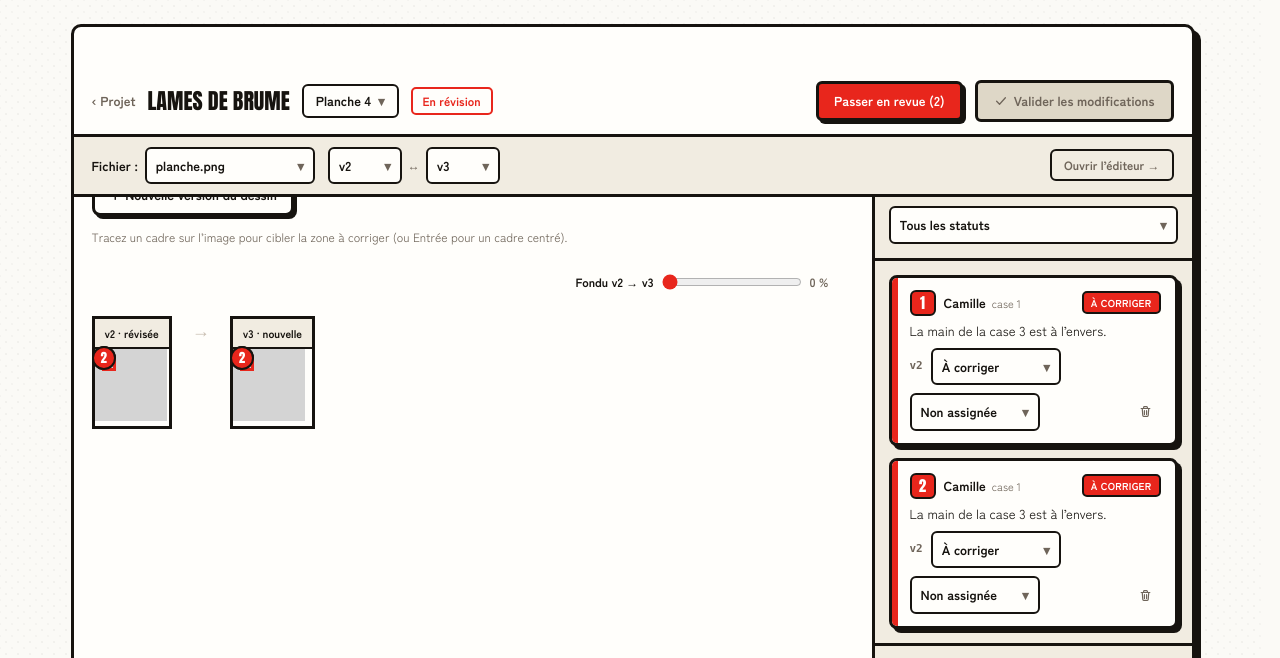
ReviewClient — CS-25 new-version triage › Escape leaves the mode keeping the decisions already written, and returns focus to the entry button
The width and height of the screenshot is (1280, 658).
Click the button "Passer en revue (2)". click: (889, 101)
box: [816,81,963,121]
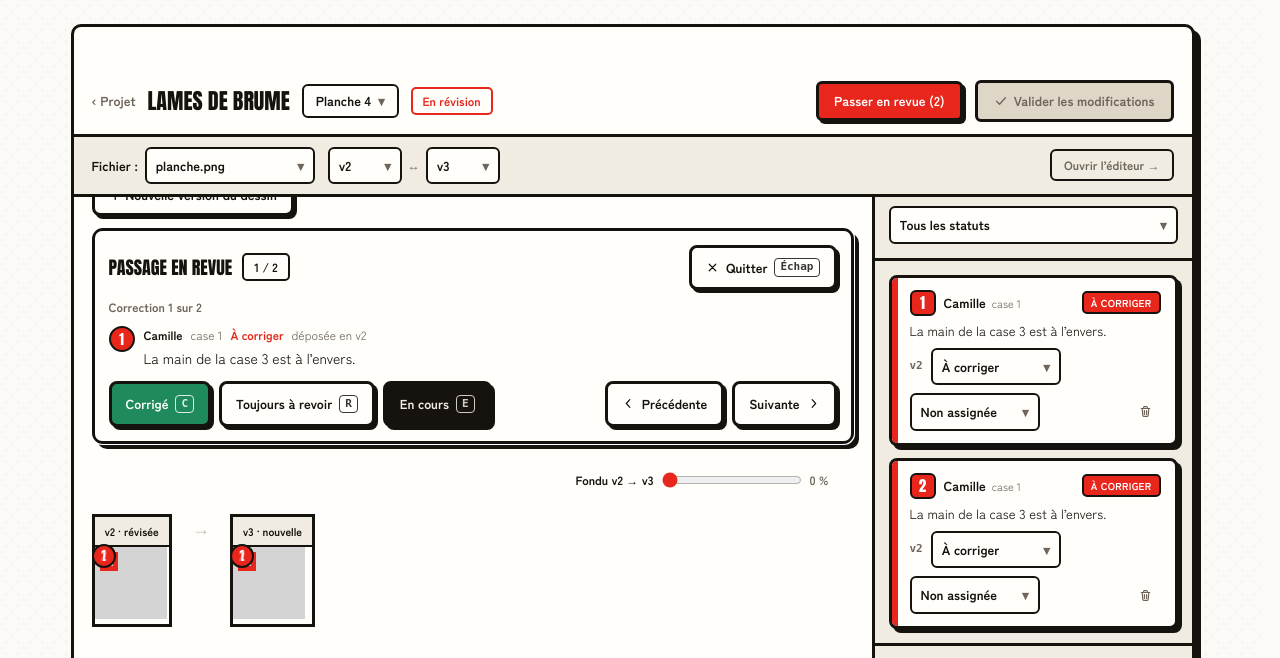
Press c
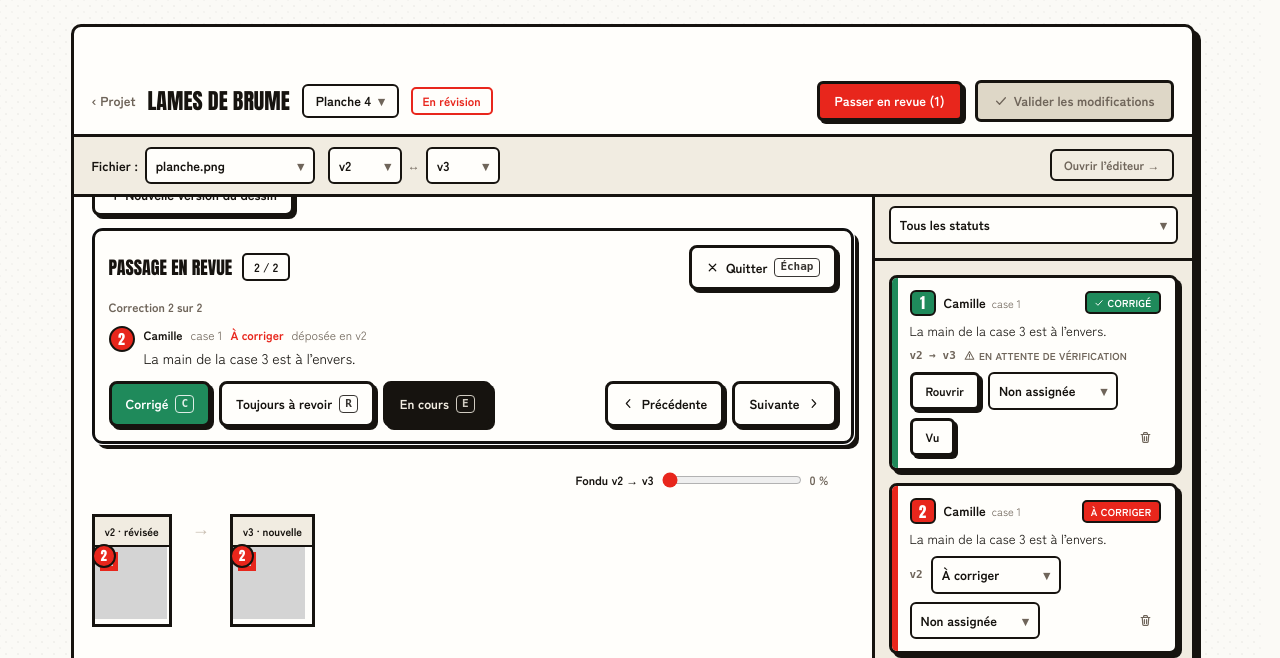
Press Escape
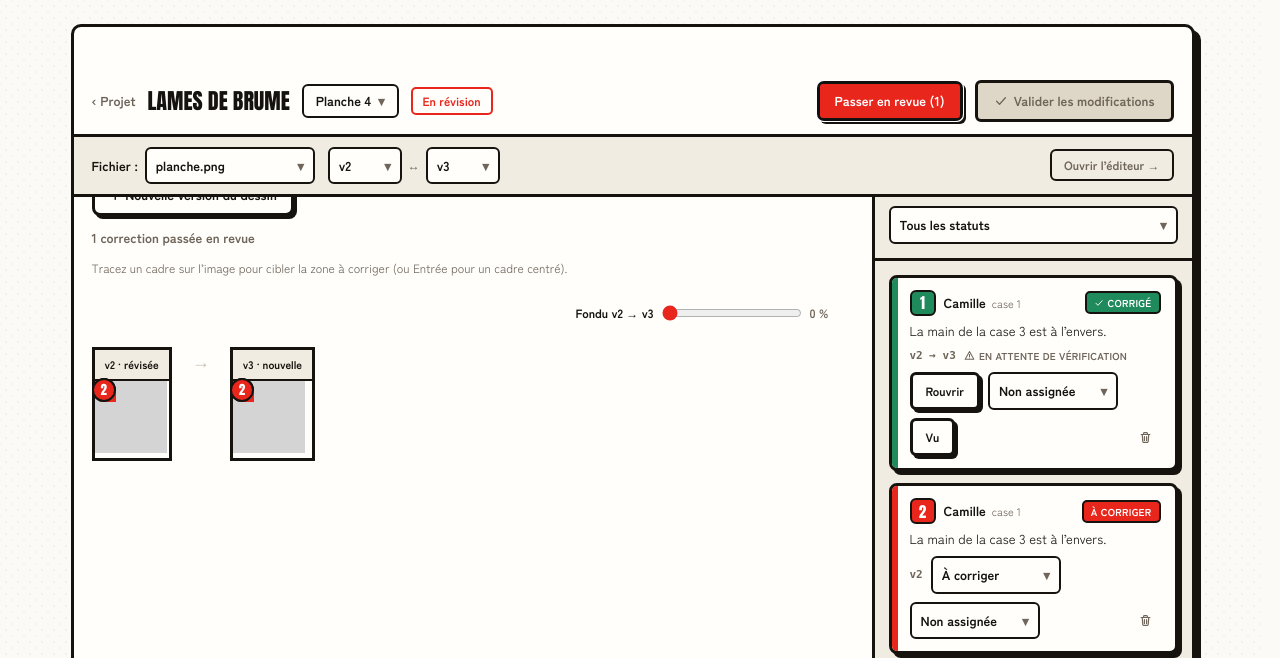
// re-entering shows the remaining correction, not a reset list
Click the button "Passer en revue (1)". click: (890, 101)
box: [816,81,963,121]
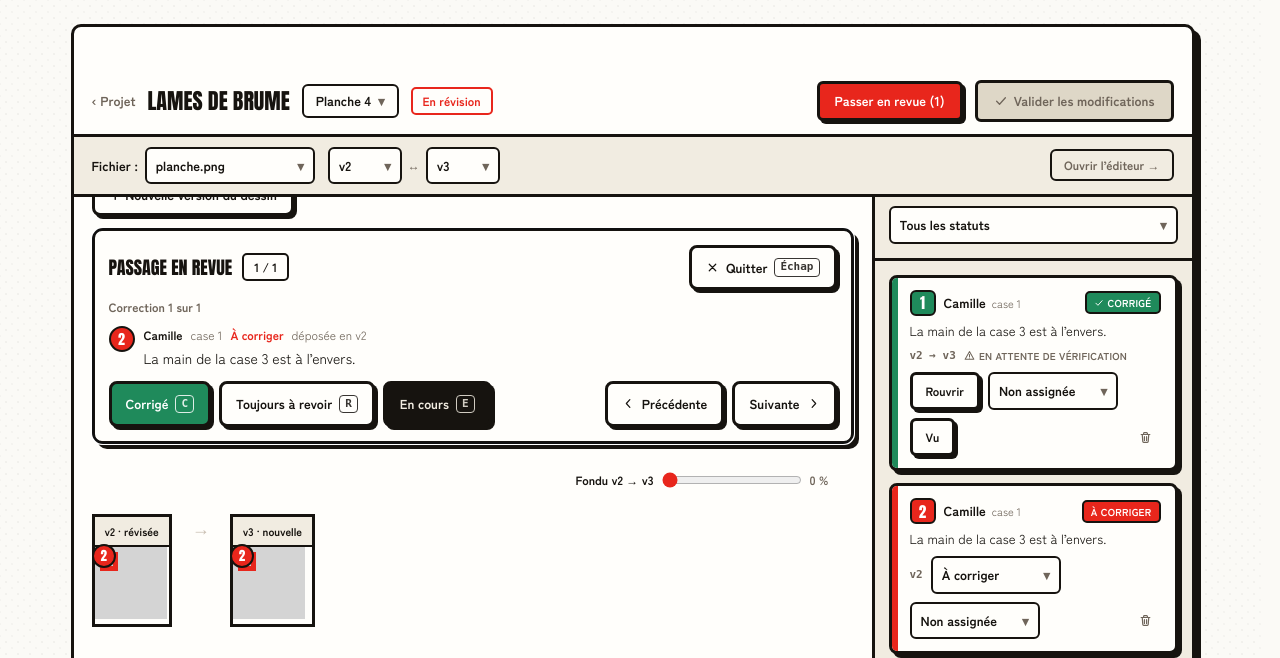
Now the text "Correction 1 sur 1" is shown, box [108,298,201,315]
